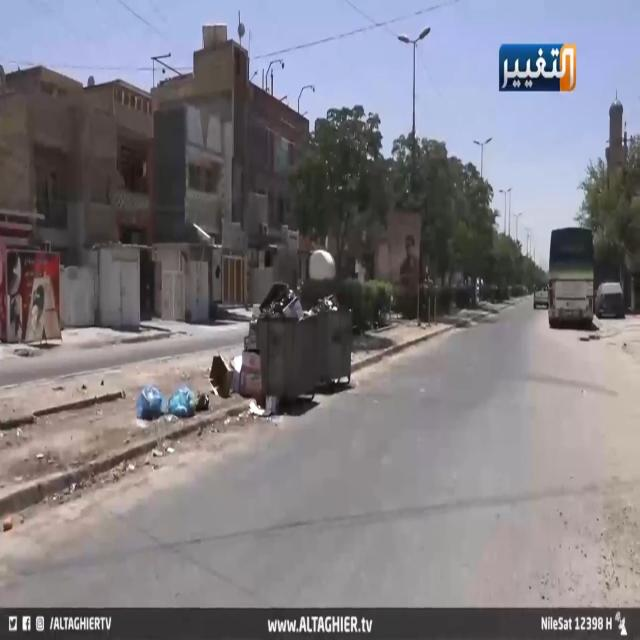high trash: (210, 282, 352, 416)
less trash: (136, 384, 209, 420), (52, 482, 80, 500), (152, 442, 174, 458), (112, 462, 135, 474)
